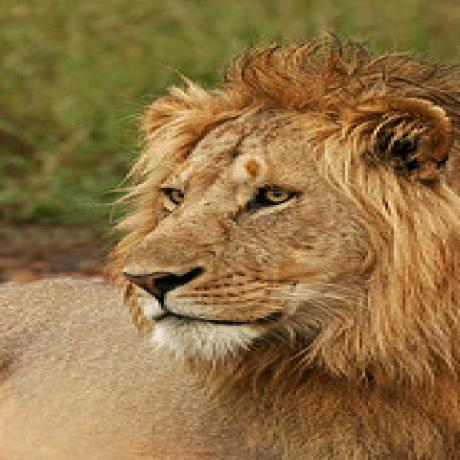Lion: (5, 49, 460, 460)
